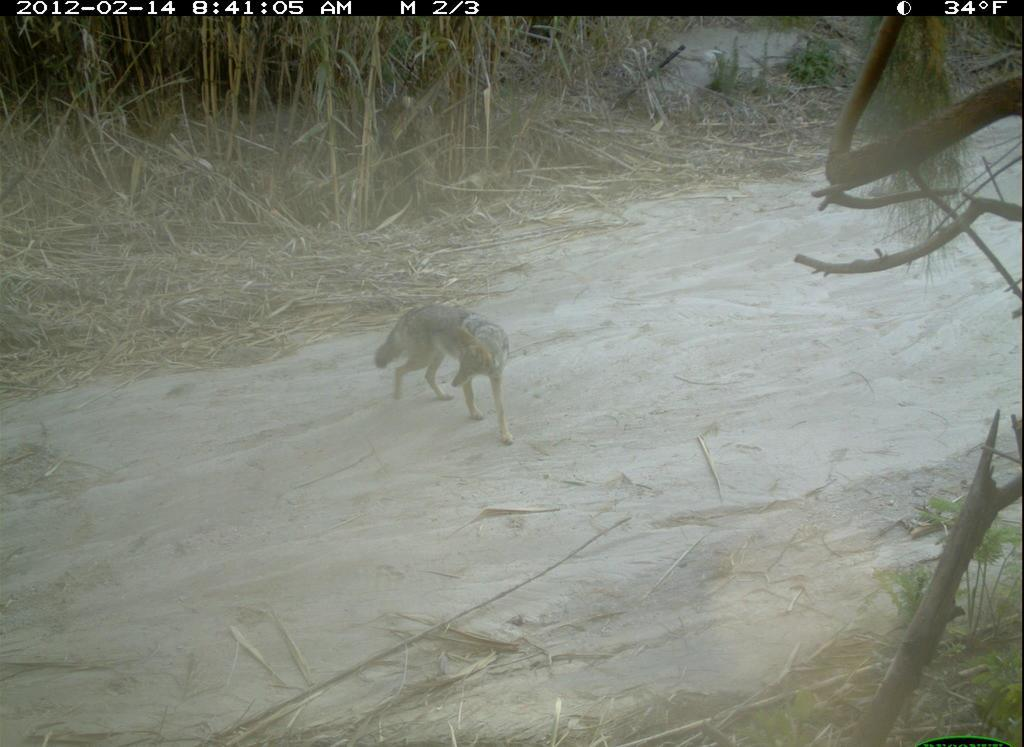coyote: (367, 300, 524, 446)
